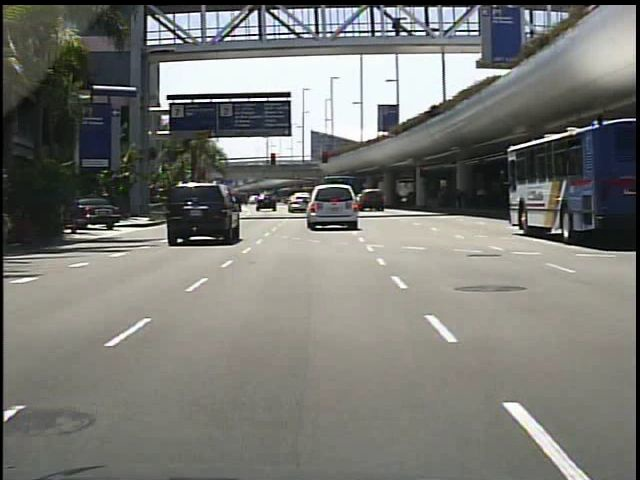person: (384, 18, 402, 42)
